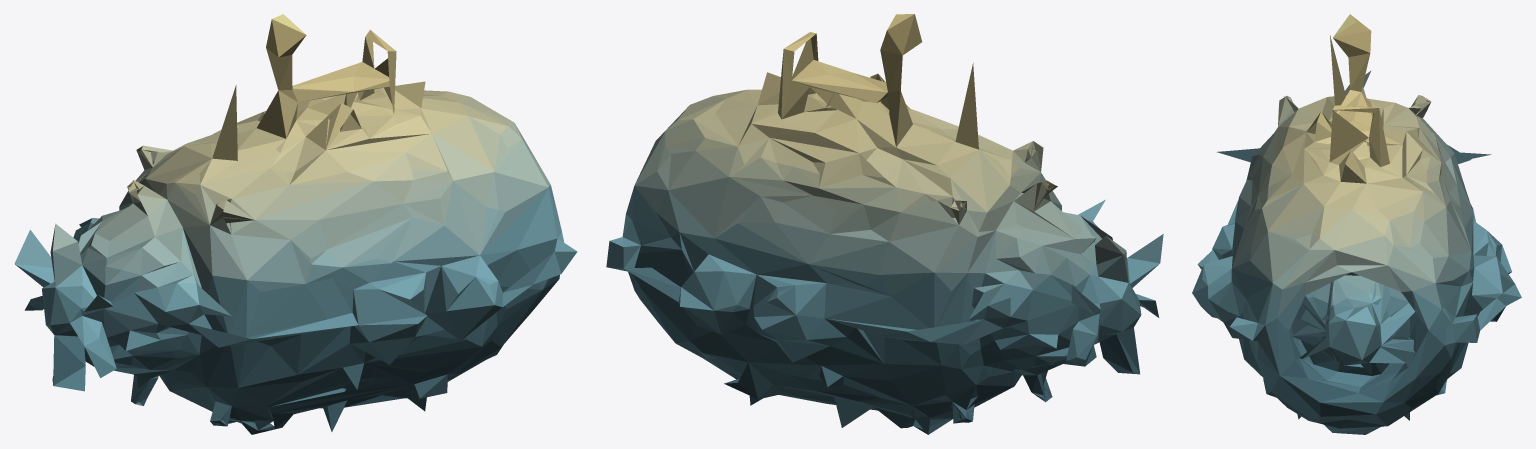
The model's file is m-fosa-sumergible.glb.
3 views of the same model, side by side, from view 1: azimuth 30°, elevation 25°; view 2: azimuth 150°, elevation 25°; view 3: azimuth 270°, elevation 25° (orthographic). The views are drawn at different scales.
Size of the model in its own units: 1.6 by 1.23 by 1.05.
